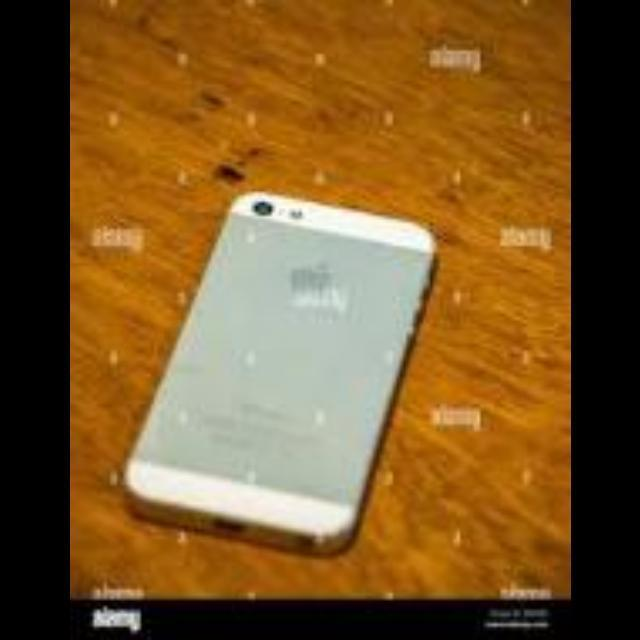PhoneUse: (120, 194, 436, 554)
